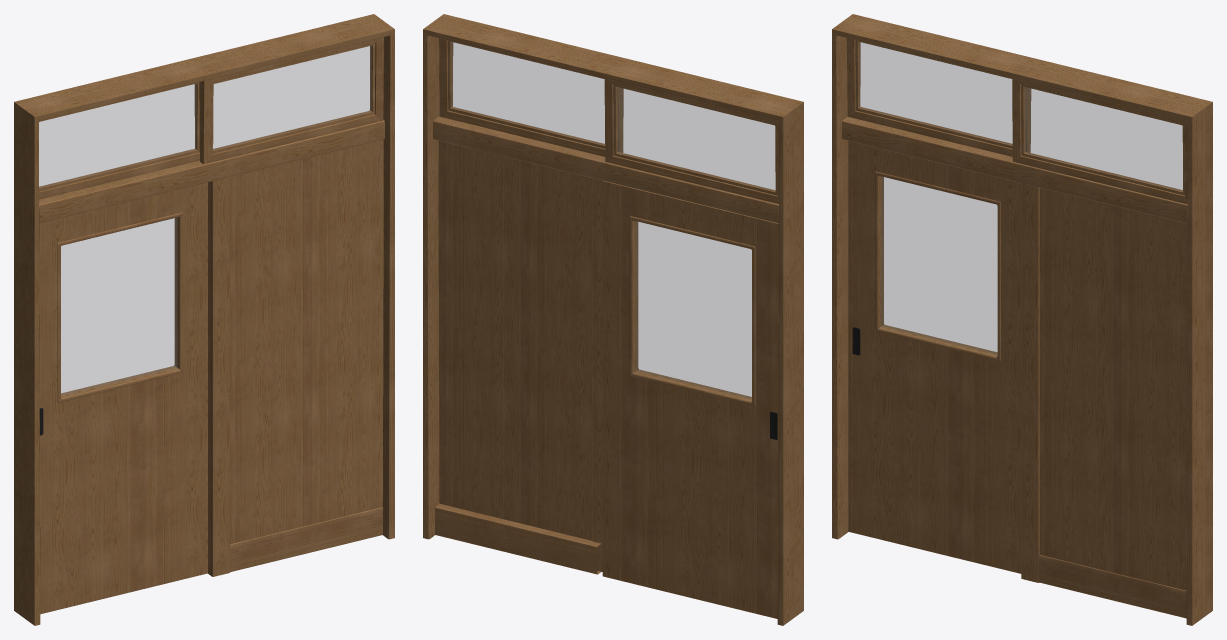
Rendered from Partition_04.FBX.
3 renders of one model, left to right at view 1: azimuth 30°, elevation 25°; view 2: azimuth 150°, elevation 25°; view 3: azimuth 330°, elevation 25°, orthographic.
Parts seen in each view (by area): view 1: Partition_04; view 2: Partition_04; view 3: Partition_04.
Boxes of the visible parts, box(x1,y1,x2,y2) form: Partition_04: box(14, 14, 394, 625); Partition_04: box(423, 14, 803, 625); Partition_04: box(832, 14, 1212, 625).
Size of the model in its own units: 200 by 270 by 20.
